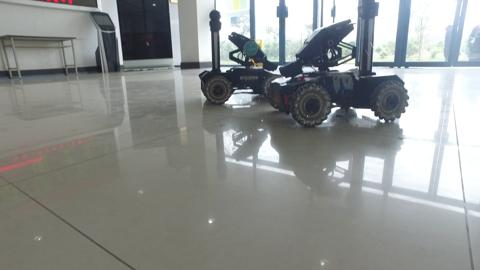chariot: (272, 1, 410, 131), (194, 6, 285, 104)
